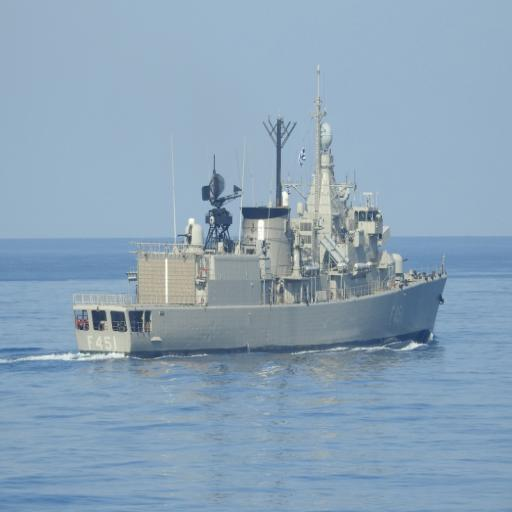Fragata: (69, 59, 453, 358)
